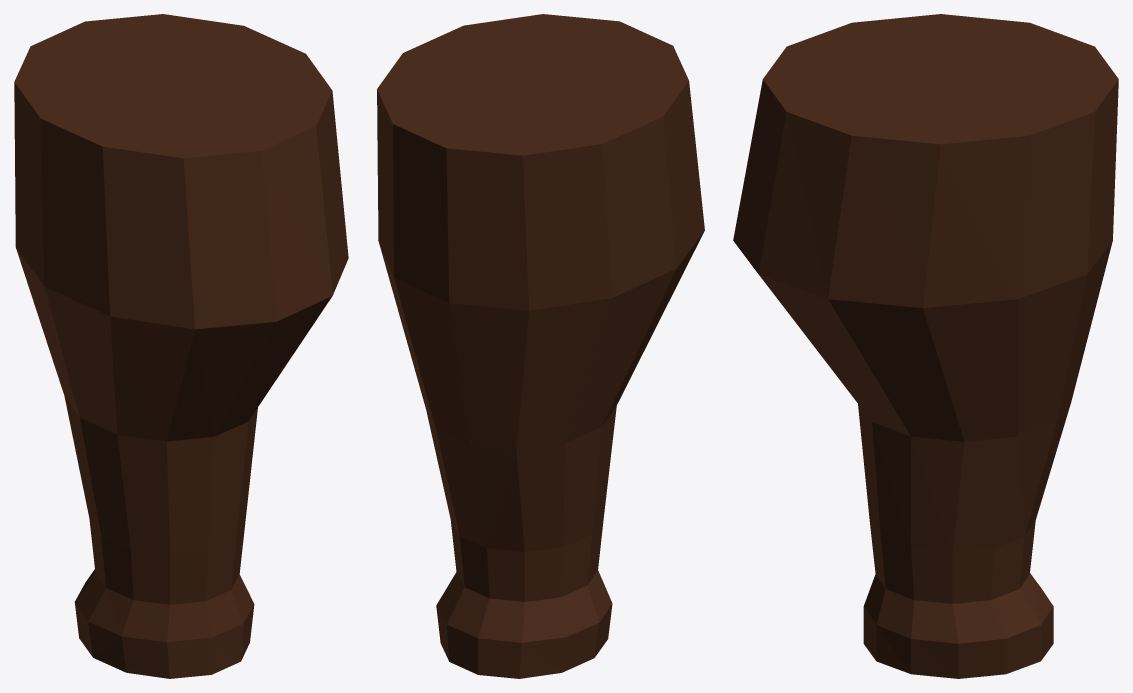
Rendered from Toro_Pata_TrasIzq.obj.
3 views of the same model, side by side, from view 1: azimuth 30°, elevation 25°; view 2: azimuth 150°, elevation 25°; view 3: azimuth 270°, elevation 25° (orthographic). The views are drawn at different scales.
Parts seen in each view (by area): view 1: Toro_PataTrasIzq; view 2: Toro_PataTrasIzq; view 3: Toro_PataTrasIzq.
Boxes of the visible parts, left/top/right/bottom form: Toro_PataTrasIzq: left=14, top=14, right=348, bottom=678; Toro_PataTrasIzq: left=377, top=14, right=704, bottom=678; Toro_PataTrasIzq: left=733, top=14, right=1118, bottom=678.
Bounding box in the file's own units: 0.54 × 1.05 × 0.65.
